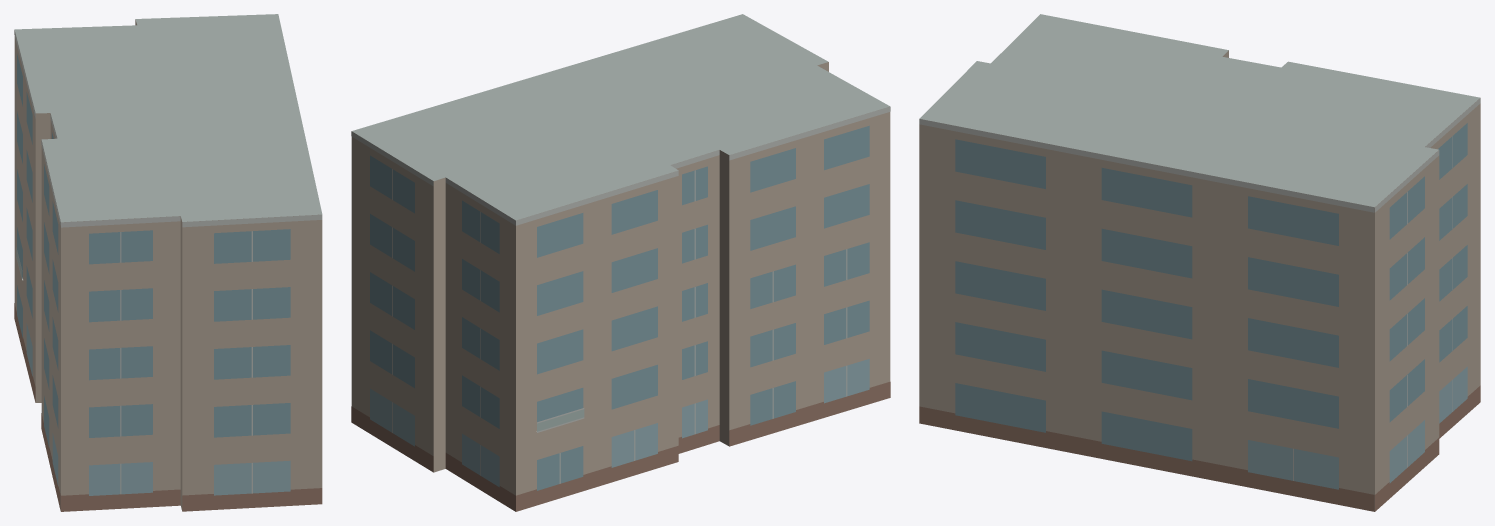
Rendered from survey-upis-32992272.glb.
3 views of the same model, side by side, from view 1: azimuth 30°, elevation 25°; view 2: azimuth 150°, elevation 25°; view 3: azimuth 270°, elevation 25° (orthographic). The views are drawn at different scales.
Parts seen in each view (by area): view 1: survey-upis-32992272.tmp; view 2: survey-upis-32992272.tmp; view 3: survey-upis-32992272.tmp.
Boxes of the visible parts, bbox=[...] form: survey-upis-32992272.tmp: bbox=[14, 14, 322, 511]; survey-upis-32992272.tmp: bbox=[351, 14, 890, 511]; survey-upis-32992272.tmp: bbox=[919, 14, 1480, 511].
Bounding box in the file's own units: 18.17 × 13.35 × 22.3.
